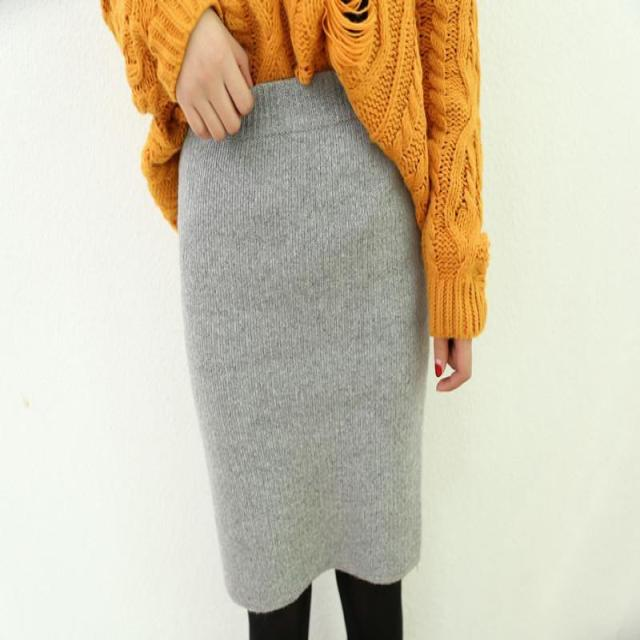long sleeve top: (110, 5, 418, 227), (419, 5, 483, 337)
skirt: (192, 62, 429, 599)
trousers: (195, 65, 410, 639)
